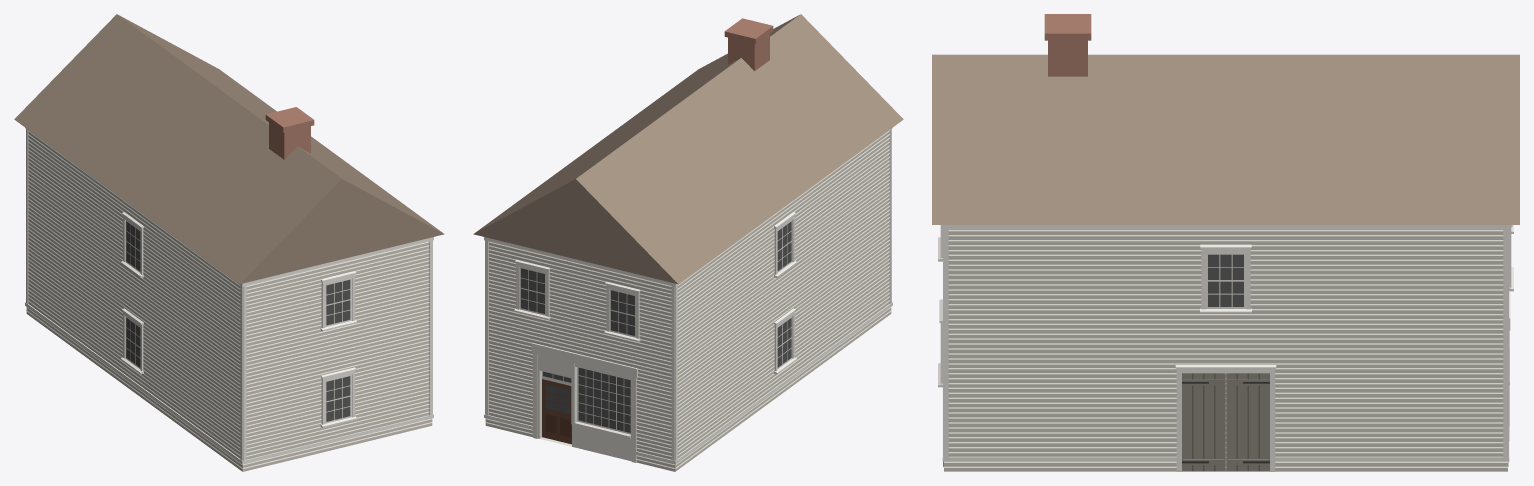
File: recon_1835_core_c3_037__inferred_1835.glb
3 renders of one model, left to right at view 1: azimuth 30°, elevation 25°; view 2: azimuth 150°, elevation 25°; view 3: azimuth 270°, elevation 25°, orthographic. The views are drawn at different scales.
Parts seen in each view (by area): view 1: recon_1835_core_c3_037__inferred_1835; view 2: recon_1835_core_c3_037__inferred_1835; view 3: recon_1835_core_c3_037__inferred_1835.
Boxes of the visible parts, x1,y1,x2,y2 form: recon_1835_core_c3_037__inferred_1835: [14, 14, 444, 471]; recon_1835_core_c3_037__inferred_1835: [473, 14, 903, 471]; recon_1835_core_c3_037__inferred_1835: [932, 14, 1519, 471].
Size of the model in its own units: 6.49 by 8.96 by 12.33.
